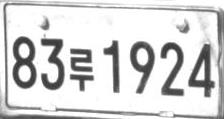1: (99, 39, 127, 94)
2: (159, 41, 184, 96)
3: (40, 38, 65, 91)
4: (187, 43, 215, 97)
8: (11, 35, 37, 89)
9: (128, 39, 155, 93)
루: (69, 47, 94, 91)
